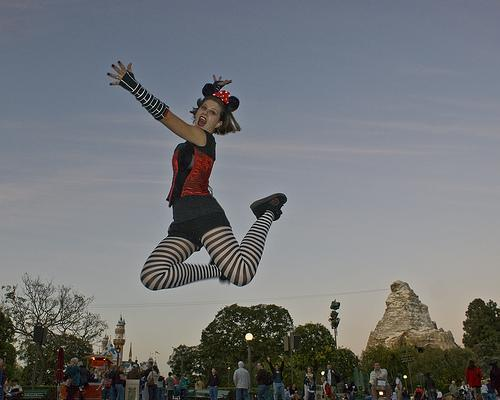person: (108, 57, 290, 295)
